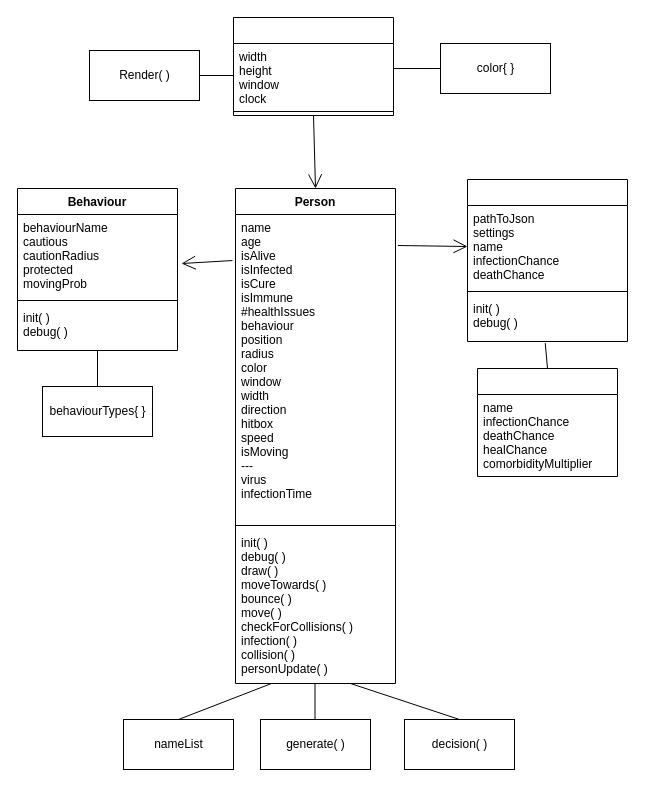
Some shapes in this 645 by 787 pixel diagram are drawn without their labels. Each missing label, with the box of its shape:
Display: (232, 16, 394, 116)
Virus: (466, 178, 628, 342)
virus presets (JSON): (476, 368, 618, 476)
